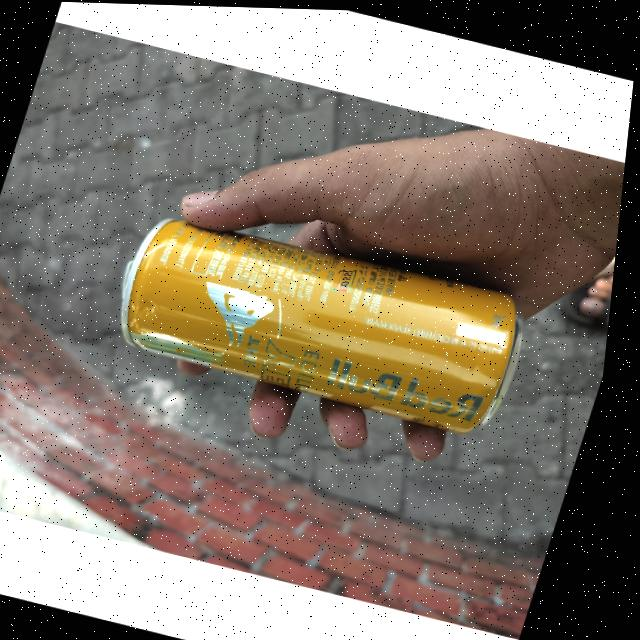Redbull Yellow Edition: (112, 205, 539, 435)
